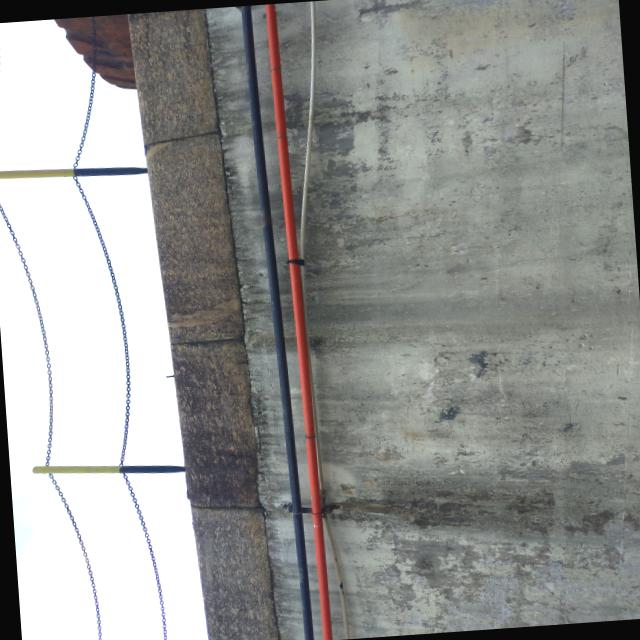gas: (239, 8, 315, 640), (262, 6, 331, 640)
